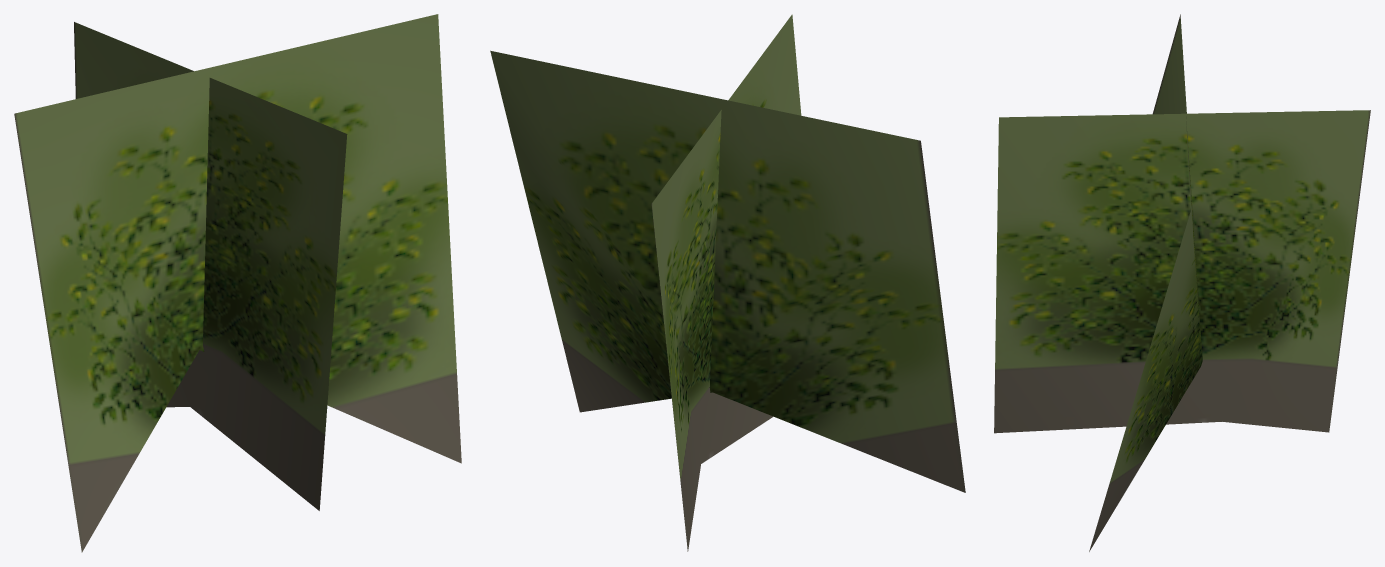
The model's file is JiaYeSiWai1_YuanJingYe_2.FBX.
The picture shows the model from 3 angles, left to right: view 1: azimuth 30°, elevation 25°; view 2: azimuth 150°, elevation 25°; view 3: azimuth 270°, elevation 25°; orthographic projection. The views are drawn at different scales.
Visible parts, largest first — view 1: JiaYeSiWai1_YuanJingYe_2; view 2: JiaYeSiWai1_YuanJingYe_2; view 3: JiaYeSiWai1_YuanJingYe_2.
Part boxes in pixels (x1,y1,x2,y2): JiaYeSiWai1_YuanJingYe_2: (14,14,461,552); JiaYeSiWai1_YuanJingYe_2: (490,14,965,551); JiaYeSiWai1_YuanJingYe_2: (994,14,1370,551).
Bounding box in the file's own units: 192 × 175 × 163.
